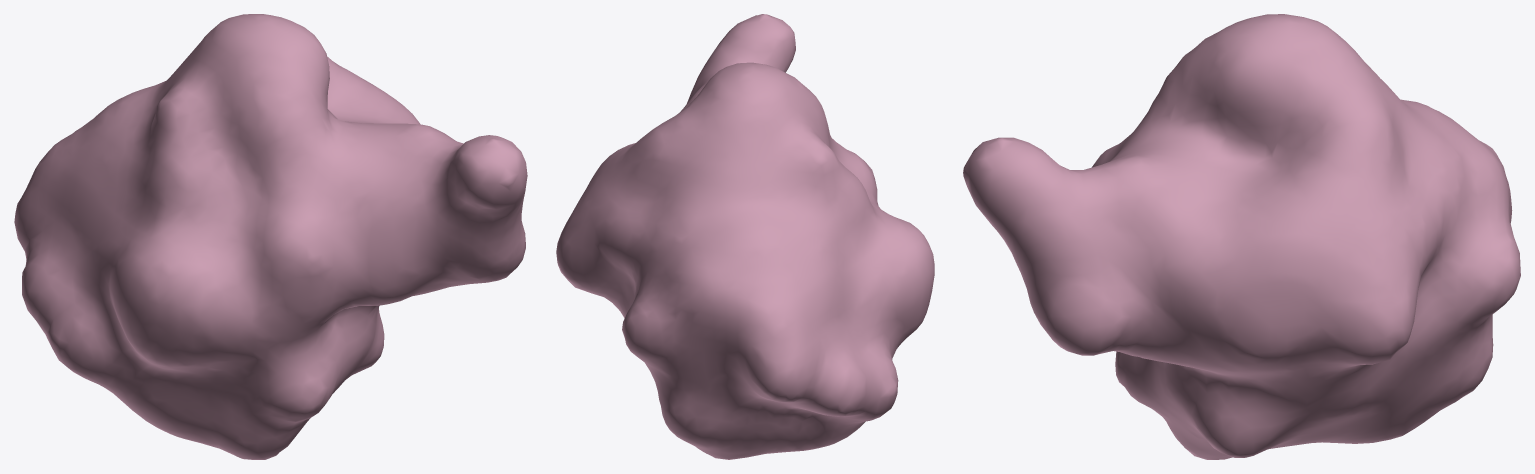
The picture shows the model from 3 angles, left to right: view 1: azimuth 30°, elevation 25°; view 2: azimuth 150°, elevation 25°; view 3: azimuth 270°, elevation 25°; orthographic projection. The views are drawn at different scales.
Size of the model in its own units: 13.61 by 14.85 by 16.57.
